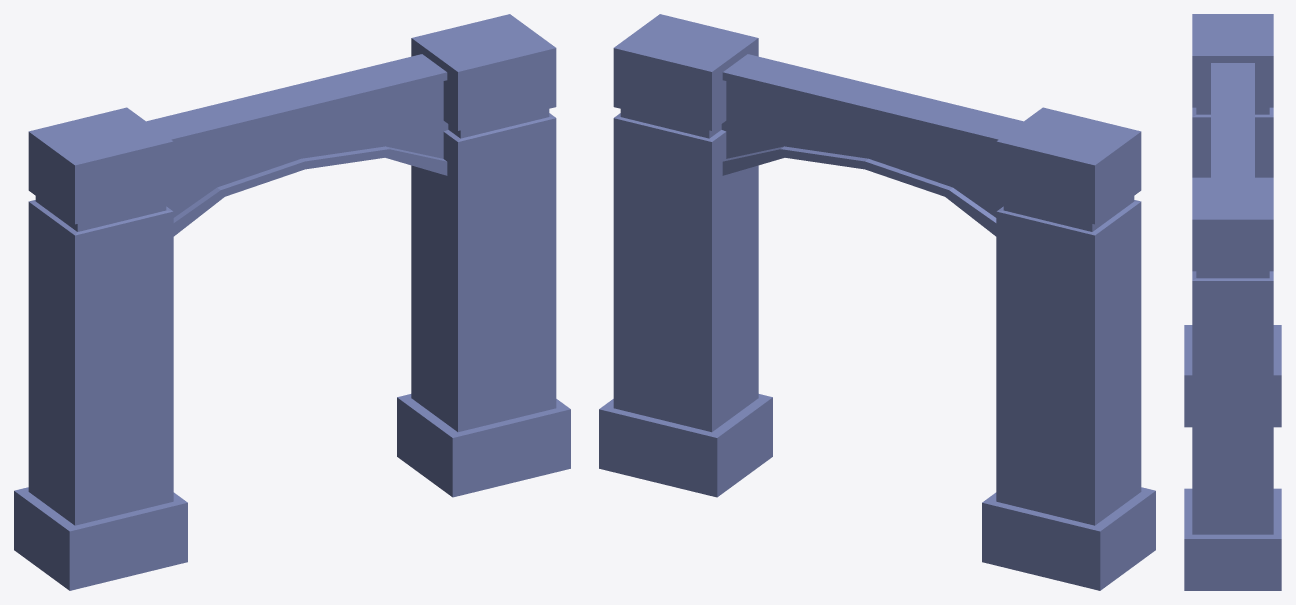
File: bridge_2_column_small.fbx
The picture shows the model from 3 angles, left to right: view 1: azimuth 30°, elevation 25°; view 2: azimuth 150°, elevation 25°; view 3: azimuth 270°, elevation 25°; orthographic projection. The views are drawn at different scales.
Visible parts, largest first — view 1: bridge_2_column_small; view 2: bridge_2_column_small; view 3: bridge_2_column_small.
Boxes of the visible parts, bbox=[...] form: bridge_2_column_small: bbox=[14, 14, 570, 590]; bridge_2_column_small: bbox=[599, 14, 1155, 590]; bridge_2_column_small: bbox=[1184, 14, 1281, 590].
Bounding box in the file's own units: 10.5 × 8.4 × 2.02.
